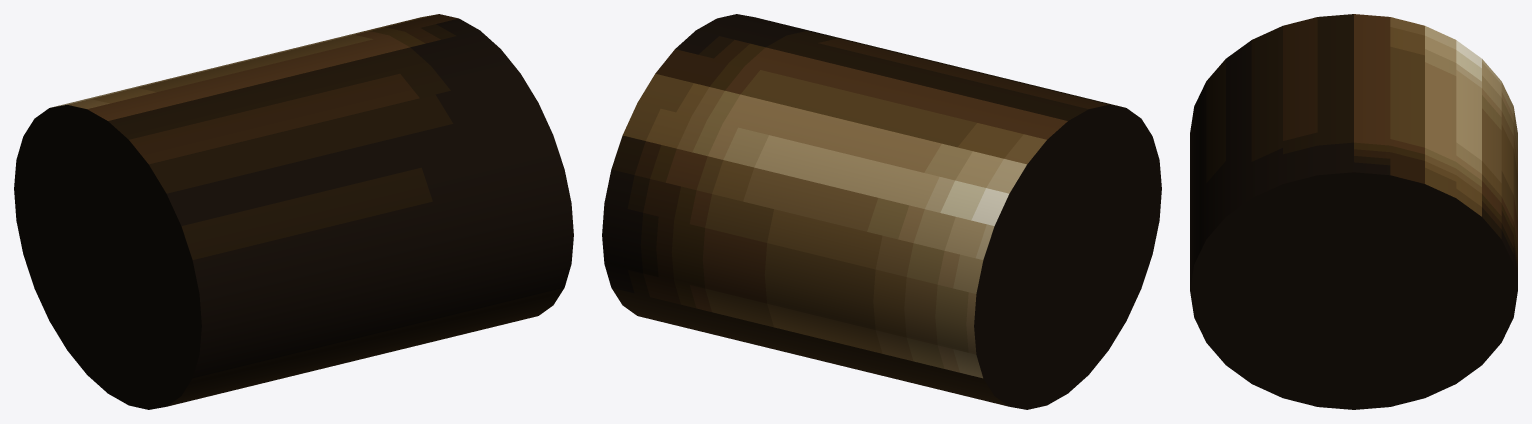
The model's file is tusk_arm_b_273.glb.
The picture shows the model from 3 angles, left to right: view 1: azimuth 30°, elevation 25°; view 2: azimuth 150°, elevation 25°; view 3: azimuth 270°, elevation 25°; orthographic projection. The views are drawn at different scales.
Parts seen in each view (by area): view 1: tusk_arm_b_273_arm; view 2: tusk_arm_b_273_arm; view 3: tusk_arm_b_273_arm.
Boxes of the visible parts, x1,y1,x2,y2 form: tusk_arm_b_273_arm: [14, 14, 573, 409]; tusk_arm_b_273_arm: [602, 14, 1161, 409]; tusk_arm_b_273_arm: [1190, 14, 1517, 409].
Bounding box in the file's own units: 24 × 16.8 × 21.
